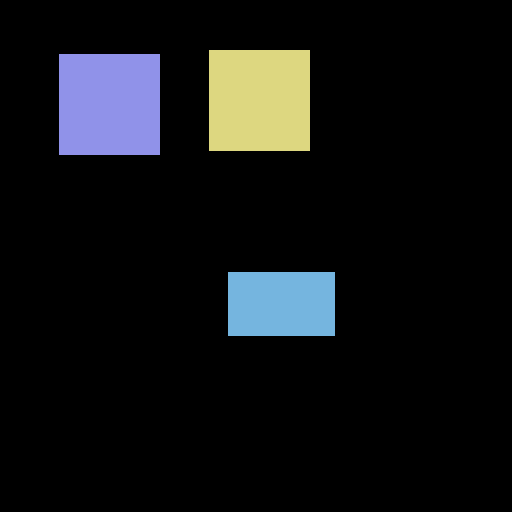rectangle: (228, 272, 334, 335)
square: (59, 54, 159, 154), (209, 50, 309, 150)
